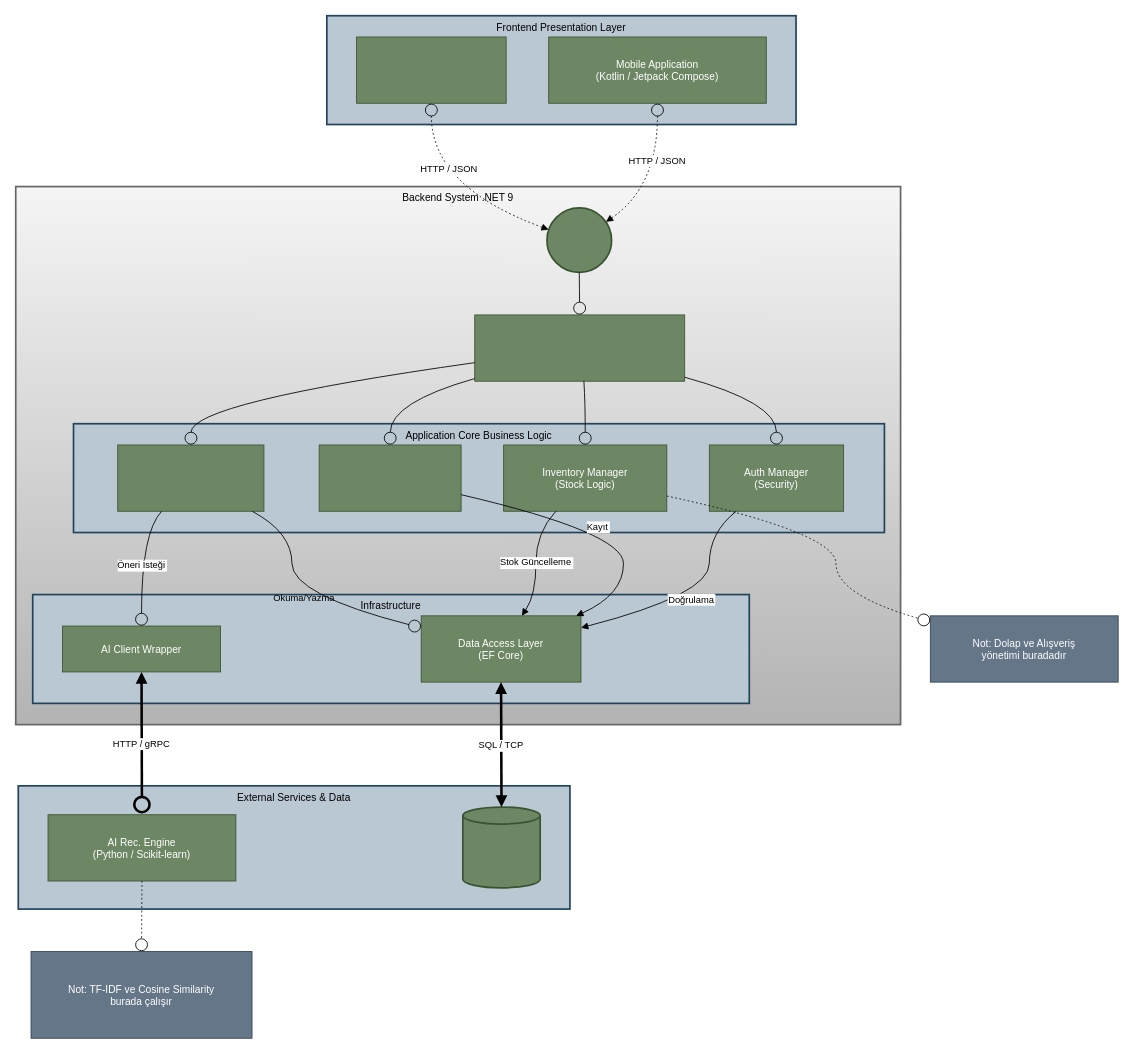
Some shapes in this 1133 by 1053 pixel diagram are drawn without their labels. The centre of each missing label's shape, as x and y in pixels:
"API Gateway / Controllers (Web API)" belongs at (579,347).
"Recipe Manager (Core Logic)" belongs at (190,477).
"REST API Port" belongs at (579,240).
"Social Manager (Interactions)" belongs at (389,477).
"SQL Server Database" belongs at (501,847).
"Web Application (React + Vite)" belongs at (431,69).
